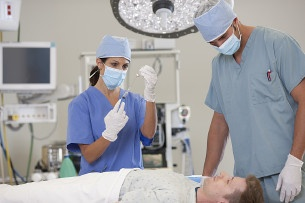Mask: (98, 56, 134, 90)
